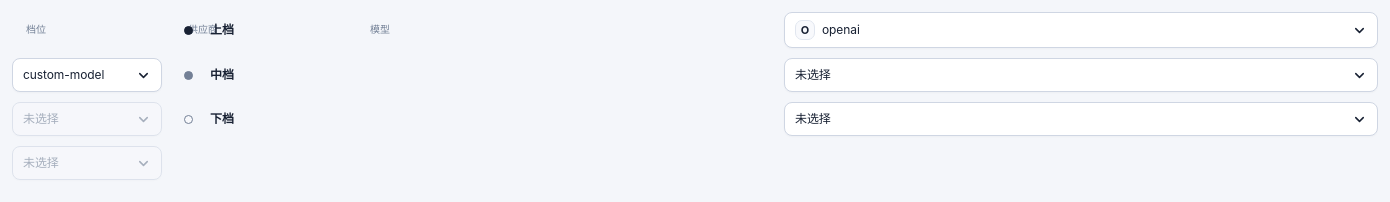
Test case: TierRouteEditor › 下拉框中自定义 openai 只显示首字母而不伪装官方图标
Expected: the text with class "brand-fallback" reads "O", [801, 22, 809, 36]
Click the dropdown named "上档供应商" at (841, 30), box [784, 12, 1378, 48]
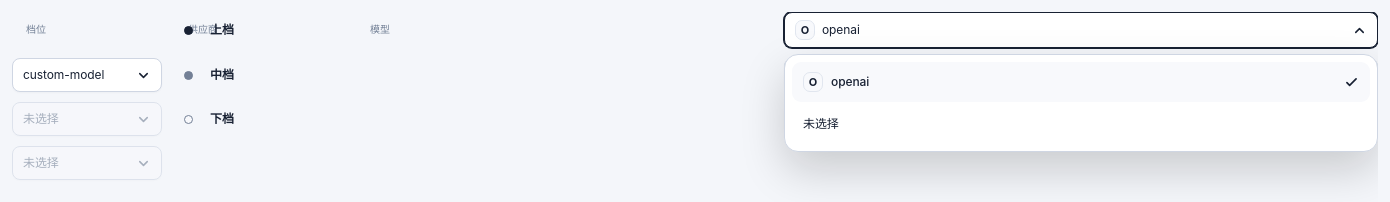
Now the 2nd text with class "brand-fallback" reads "O", box [809, 74, 817, 88]
